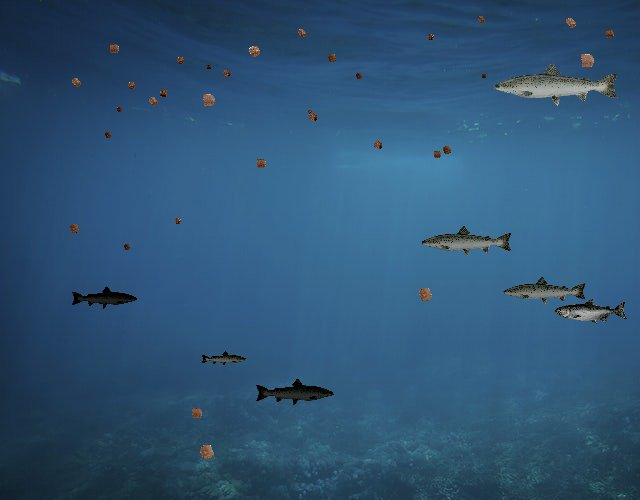Fish: (492, 61, 621, 107), (420, 225, 514, 259), (502, 275, 588, 306), (255, 377, 336, 406), (556, 298, 629, 325), (70, 285, 138, 310), (200, 350, 247, 367)
Pellet: (192, 436, 222, 466), (242, 39, 267, 64), (185, 401, 208, 424), (368, 136, 387, 155), (170, 214, 185, 229), (423, 30, 438, 44), (120, 240, 134, 254)
